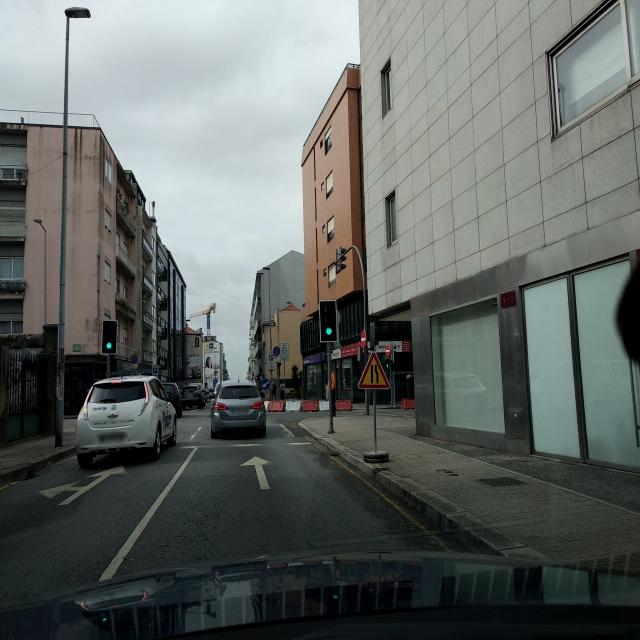car: (75, 372, 177, 468), (210, 379, 266, 438), (162, 382, 182, 418), (181, 384, 204, 410), (208, 388, 216, 400)
